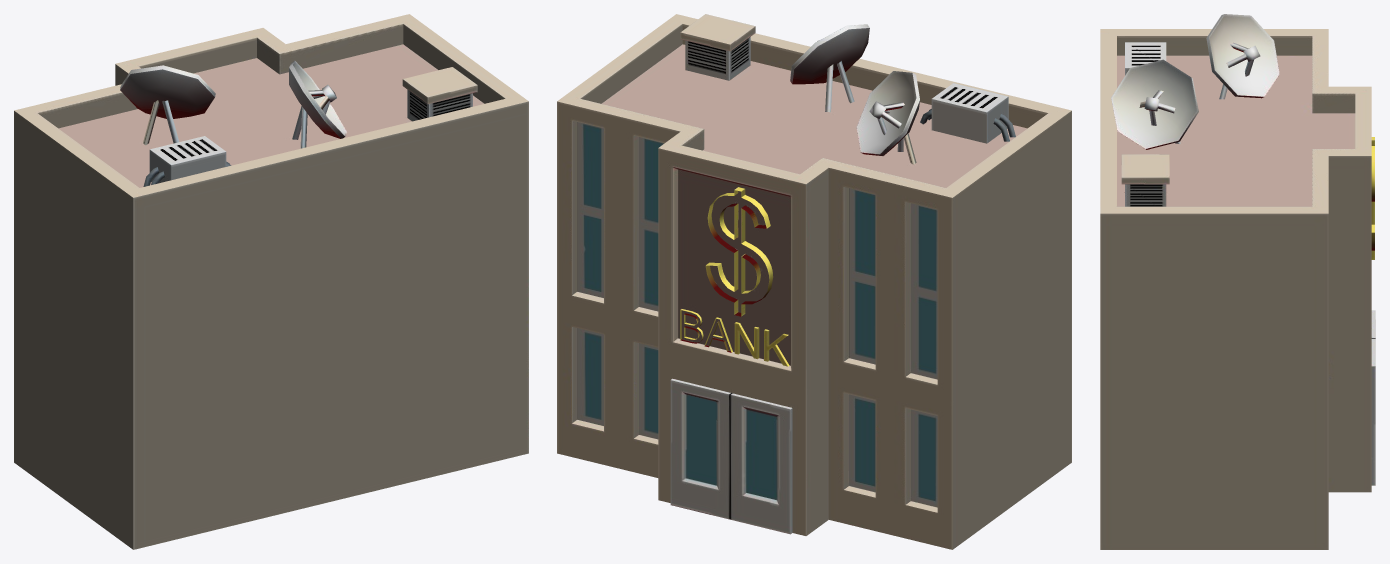
The model's file is Bank.glb.
3 views of the same model, side by side, from view 1: azimuth 30°, elevation 25°; view 2: azimuth 150°, elevation 25°; view 3: azimuth 270°, elevation 25° (orthographic). The views are drawn at different scales.
Parts seen in each view (by area): view 1: Plane002; view 2: Plane002; view 3: Plane002.
Boxes of the visible parts, box(x1,y1,x2,y2) form: Plane002: box(14, 14, 528, 549); Plane002: box(557, 14, 1071, 549); Plane002: box(1100, 14, 1375, 549).
Size of the model in its own units: 3.69 by 3.69 by 2.33.
Materials: 1 (1 with a texture image).
